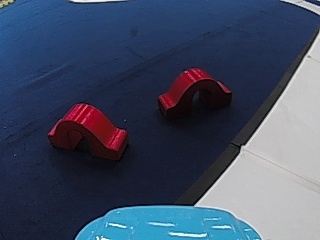bridge: (45, 101, 135, 158), (157, 67, 234, 119)
